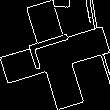L_E: (26, 33, 84, 77)
